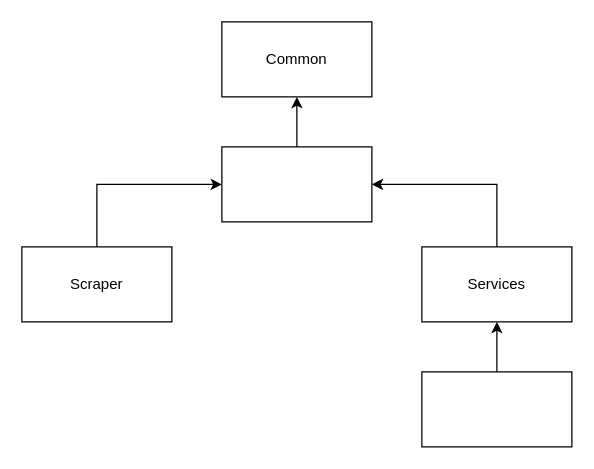
Some shapes in this 594 by 469 pixel diagram are drawn without their labels. The shapes that lost their labels are listed below. From the top down, each one's centre as x and y in pixels, then its label:
At [296,184]: "Domain".
At [496,409]: "WebApi".
